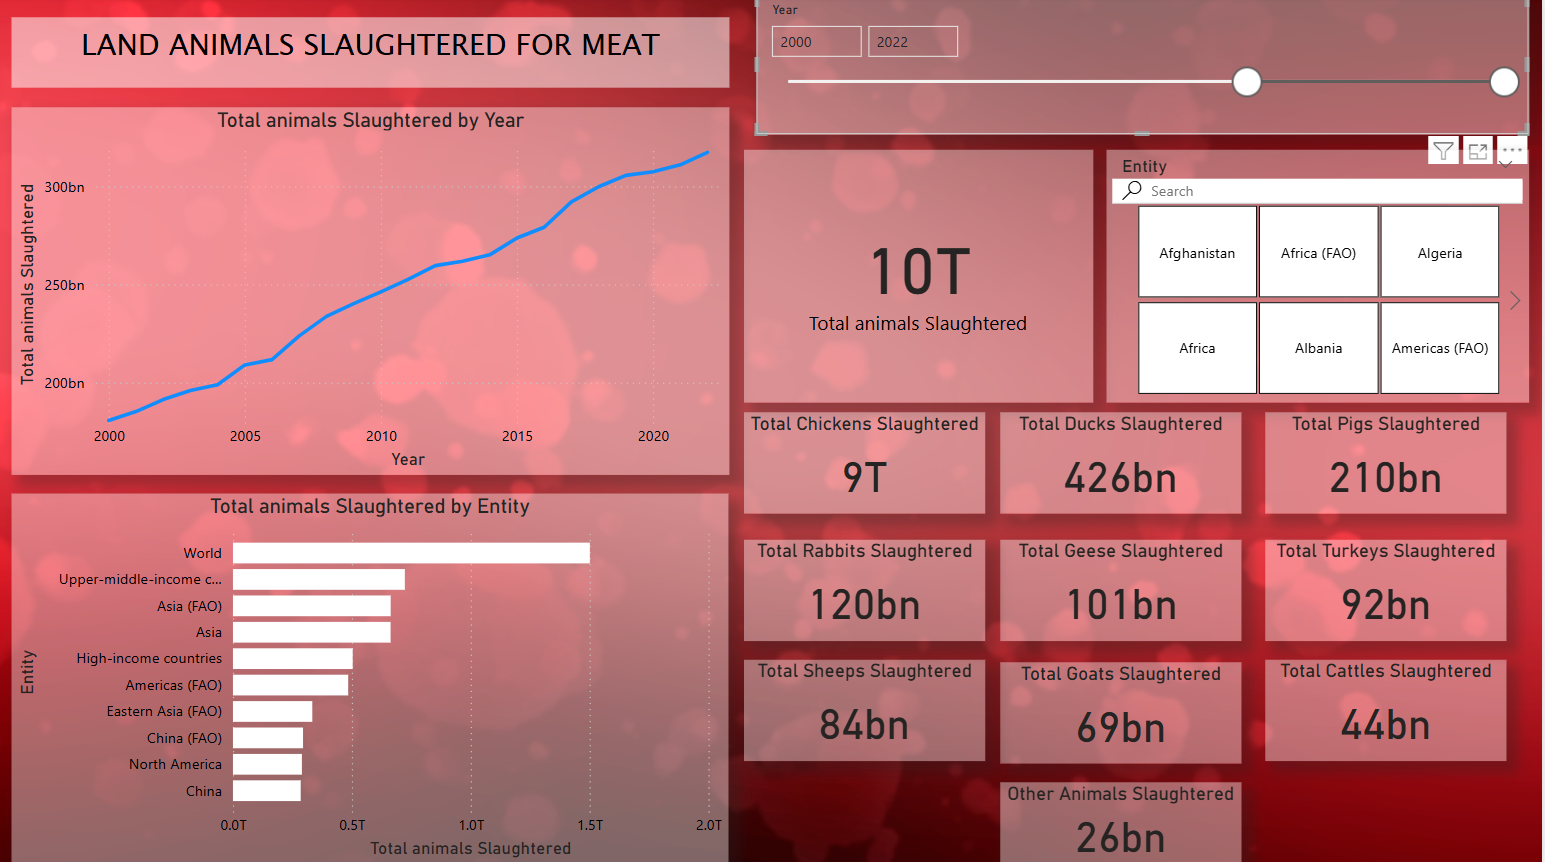

The dashboard page shown, as its layout file describes it:
{"tool":"powerbi","page":{"name":"Page 1","canvas":[1280,720],"ordinal":0},"visuals":[{"type":"lineChart","fields":{"Category":["land-animals-slaughtered-for-meat.Year"],"Y":["land-animals-slaughtered-for-meat.Total animals Slaughtered"]},"box":[10,92.7,595.2,304.8],"z":0},{"type":"slicer","fields":{"Values":["land-animals-slaughtered-for-meat.Year"]},"box":[627.5,0,640.9,115],"z":1000},{"type":"card","fields":{"Values":["land-animals-slaughtered-for-meat.Total animals Slaughtered"]},"box":[617.5,127.3,289.2,209.9],"z":2000},{"type":"slicer","fields":{"Values":["land-animals-slaughtered-for-meat.Entity"]},"box":[918.6,127.9,350,209.3],"z":3000},{"type":"clusteredBarChart","fields":{"Category":["land-animals-slaughtered-for-meat.Entity"],"Y":["land-animals-slaughtered-for-meat.Total animals Slaughtered"]},"box":[10,412,594,307.1],"z":4000},{"type":"textbox","box":[10,17.9,595.2,58.1],"z":5000},{"type":"card","title":"Total Chickens Slaughtered","fields":{"Values":["Sum(land-animals-slaughtered-for-meat.Chickens slaughtered)"]},"box":[617.4,345.3,200,83.7],"z":6000},{"type":"card","title":"Total Cattles Slaughtered","fields":{"Values":["Sum(land-animals-slaughtered-for-meat.Cattle slaughtered)"]},"box":[1050,550,200,83.7],"z":7000},{"type":"card","title":"Total Ducks Slaughtered","fields":{"Values":["Sum(land-animals-slaughtered-for-meat.Ducks slaughtered)"]},"box":[830.2,345.3,200,83.7],"z":8000},{"type":"card","title":"Total Goats Slaughtered","fields":{"Values":["Sum(land-animals-slaughtered-for-meat.Goats slaughtered)"]},"box":[830.2,552.3,200,83.7],"z":9000},{"type":"card","title":"Total Geese Slaughtered","fields":{"Values":["Sum(land-animals-slaughtered-for-meat.Geese slaughtered)"]},"box":[830.2,451.2,200,83.7],"z":10000},{"type":"card","title":"Total Pigs Slaughtered","fields":{"Values":["Sum(land-animals-slaughtered-for-meat.Pigs slaughtered)"]},"box":[1050,345.3,200,83.7],"z":11000},{"type":"card","title":"Total Sheeps Slaughtered","fields":{"Values":["Sum(land-animals-slaughtered-for-meat.Sheep slaughtered)"]},"box":[617.4,550,200,83.7],"z":12000},{"type":"card","title":"Total Rabbits Slaughtered","fields":{"Values":["Sum(land-animals-slaughtered-for-meat.Rabbits slaughtered)"]},"box":[617.4,451.2,200,83.7],"z":13000},{"type":"card","title":"Total Turkeys Slaughtered","fields":{"Values":["Sum(land-animals-slaughtered-for-meat.Turkeys slaughtered)"]},"box":[1050,451.2,200,83.7],"z":14000},{"type":"card","title":"Other Animals Slaughtered","fields":{"Values":["Sum(land-animals-slaughtered-for-meat.Other animals slaughtered)"]},"box":[830.2,652.3,200,67.4],"z":15000}]}

Visuals, with their boxes in screenshot pixels (x1, y1, x2, y2), scaled from the page's 1280x720 canvas onto the 1545x862 screenshot:
lineChart - land-animals-slaughtered-for-meat.Year x land-animals-slaughtered-for-meat.Total animals Slaughtered: bbox(12, 111, 730, 476)
slicer - land-animals-slaughtered-for-meat.Year: bbox(757, 0, 1531, 138)
card - land-animals-slaughtered-for-meat.Total animals Slaughtered: bbox(745, 152, 1094, 404)
slicer - land-animals-slaughtered-for-meat.Entity: bbox(1109, 153, 1531, 404)
clusteredBarChart - land-animals-slaughtered-for-meat.Entity x land-animals-slaughtered-for-meat.Total animals Slaughtered: bbox(12, 493, 729, 861)
textbox: bbox(12, 21, 730, 91)
"Total Chickens Slaughtered" card: bbox(745, 413, 987, 514)
"Total Cattles Slaughtered" card: bbox(1267, 658, 1509, 759)
"Total Ducks Slaughtered" card: bbox(1002, 413, 1243, 514)
"Total Goats Slaughtered" card: bbox(1002, 661, 1243, 761)
"Total Geese Slaughtered" card: bbox(1002, 540, 1243, 640)
"Total Pigs Slaughtered" card: bbox(1267, 413, 1509, 514)
"Total Sheeps Slaughtered" card: bbox(745, 658, 987, 759)
"Total Rabbits Slaughtered" card: bbox(745, 540, 987, 640)
"Total Turkeys Slaughtered" card: bbox(1267, 540, 1509, 640)
"Other Animals Slaughtered" card: bbox(1002, 781, 1243, 861)
